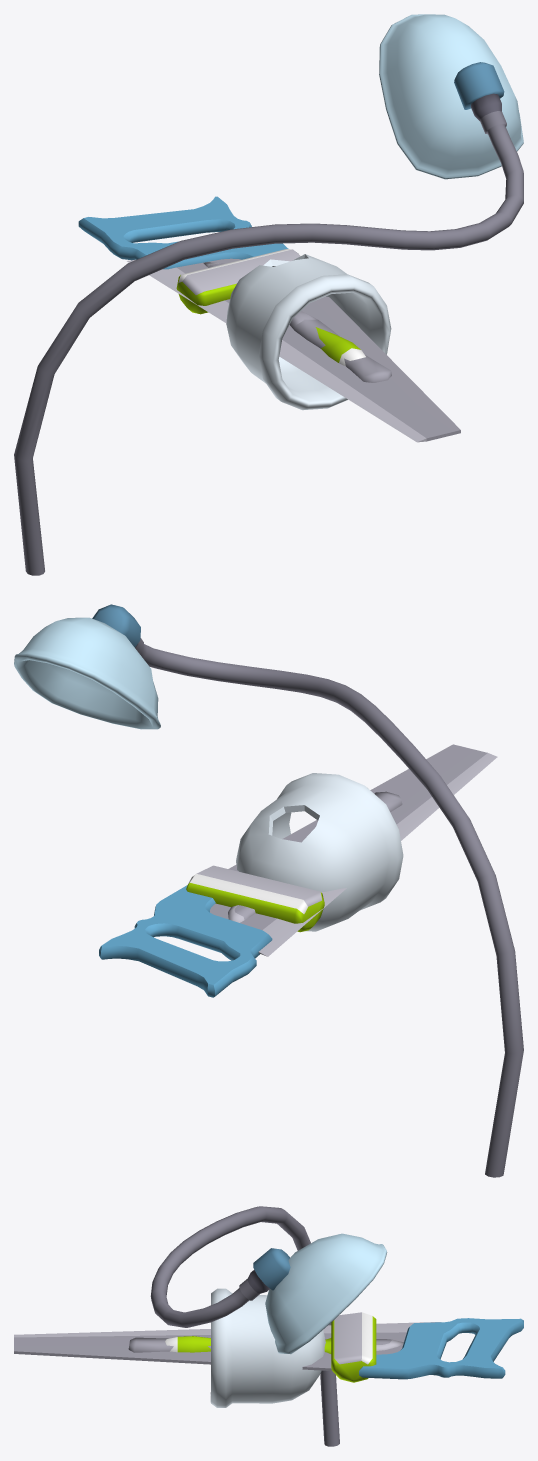
File: Assets.fbx
3 renders of one model, top to bottom at view 1: azimuth 30°, elevation 25°; view 2: azimuth 150°, elevation 25°; view 3: azimuth 270°, elevation 25°, orthographic. The views are drawn at different scales.
Visible parts, largest first — view 1: Oxygen_Mask, Saw_Tool_M, Hand_Glows_With_Hole, Shaver_M, Cutter_M; view 2: Oxygen_Mask, Hand_Glows_With_Hole, Saw_Tool_M, Shaver_M, Cutter_M; view 3: Oxygen_Mask, Saw_Tool_M, Hand_Glows_With_Hole, Shaver_M, Cutter_M.
Boxes of the visible parts, x1,y1,x2,y2 form: Oxygen_Mask: [14, 14, 523, 575]; Saw_Tool_M: [78, 196, 460, 442]; Hand_Glows_With_Hole: [226, 254, 391, 410]; Shaver_M: [176, 249, 365, 366]; Cutter_M: [203, 262, 391, 382]; Oxygen_Mask: [14, 604, 523, 1177]; Hand_Glows_With_Hole: [236, 773, 403, 931]; Saw_Tool_M: [99, 744, 497, 997]; Shaver_M: [186, 865, 324, 932]; Cutter_M: [228, 791, 402, 922]; Oxygen_Mask: [150, 1206, 387, 1446]; Saw_Tool_M: [14, 1318, 523, 1379]; Hand_Glows_With_Hole: [210, 1288, 325, 1407]; Shaver_M: [165, 1312, 376, 1382]; Cutter_M: [128, 1337, 403, 1352].
Bounding box in the file's own units: 429 × 372 × 464.
Materials: 1 (1 with a texture image).
